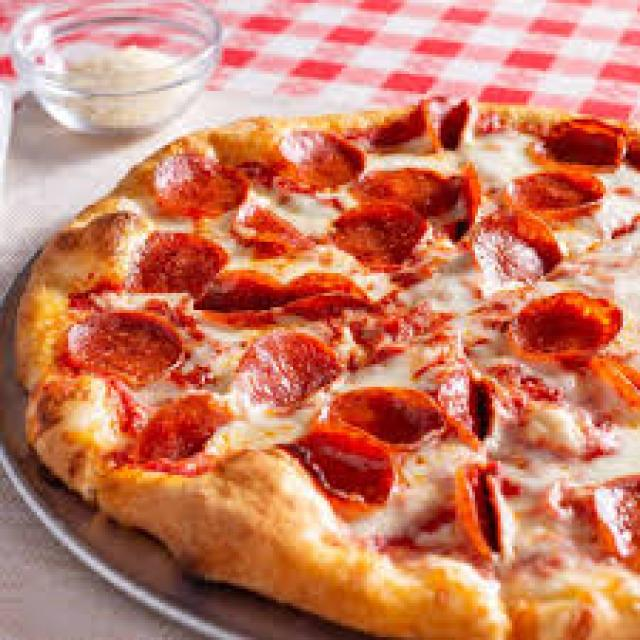Pizza: (31, 115, 640, 640)
